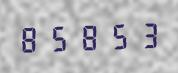eight: (18, 22, 45, 54), (74, 20, 101, 52)
five: (46, 21, 73, 53), (102, 19, 129, 51)
three: (130, 18, 157, 50)
